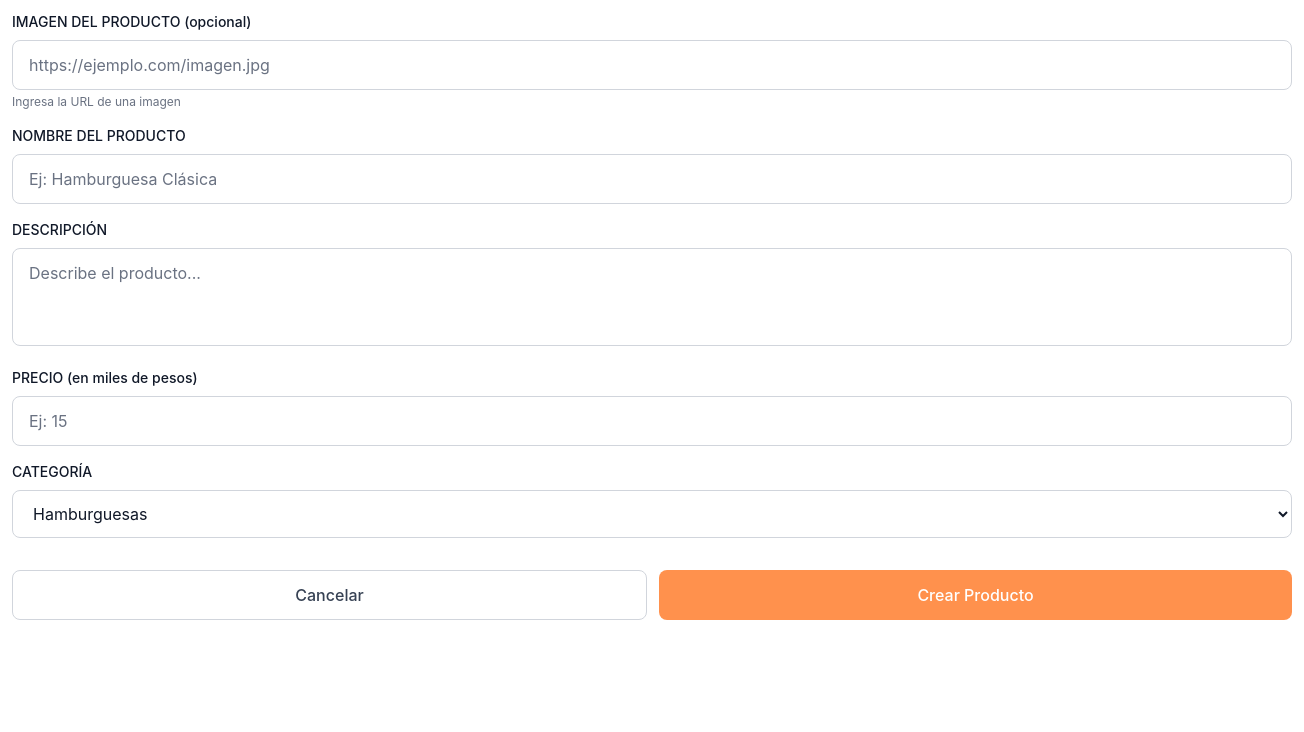
it: CreateProductForm › displays validation errors for empty required fields
Click the button "Crear Producto" at (976, 595), box [659, 570, 1292, 620]
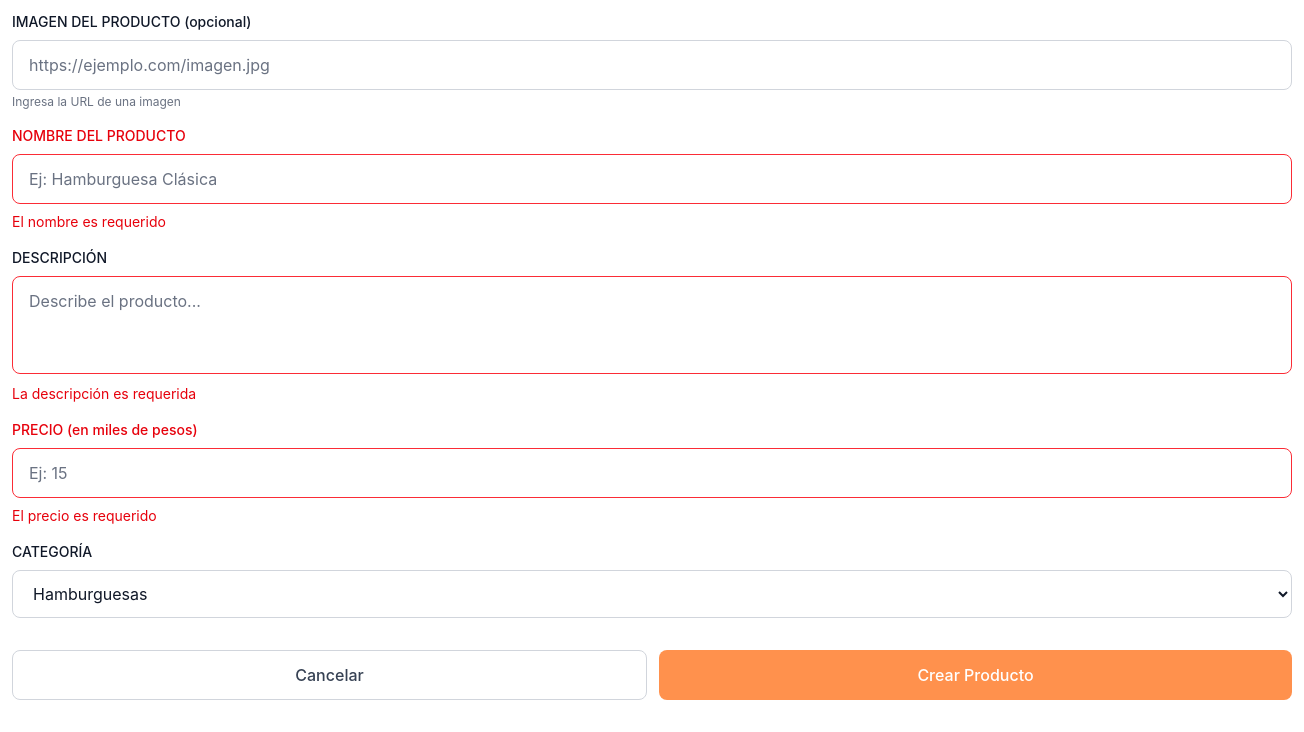
Expected: the text "El nombre es requerido" is shown, [12, 213, 166, 230]
Expected: the text "La descripción es requerida" is shown, [12, 385, 196, 402]
Expected: the text "El precio es requerido" is shown, [12, 507, 157, 524]
